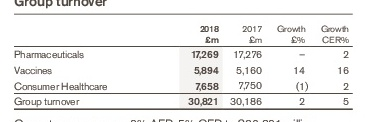table: (0, 0, 366, 122)
